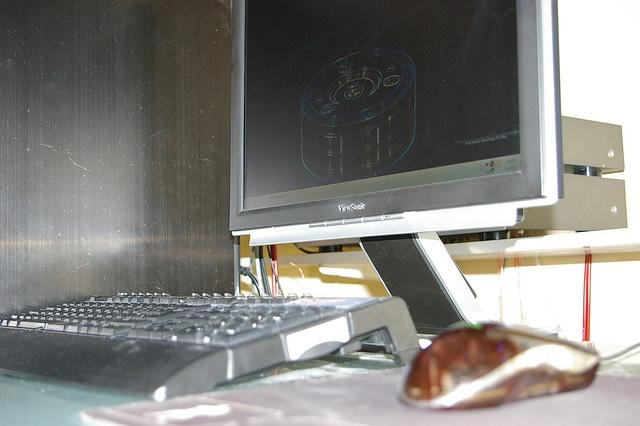AIO PC-Monitor-TV: (228, 0, 560, 246)
